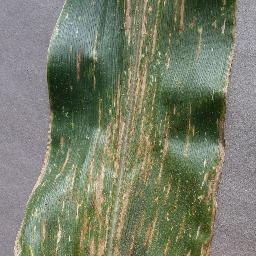Gray_Leaf_Spot: (106, 44, 170, 256), (200, 81, 235, 195), (115, 0, 199, 44), (169, 196, 221, 256), (30, 109, 55, 199), (92, 95, 105, 256), (74, 152, 91, 256), (51, 186, 73, 256), (207, 0, 244, 39), (42, 0, 69, 49), (54, 134, 72, 186), (8, 217, 28, 256), (89, 30, 101, 93), (182, 104, 196, 157), (221, 39, 237, 80), (172, 176, 200, 196), (36, 210, 51, 247), (73, 48, 87, 86), (172, 97, 178, 119)
